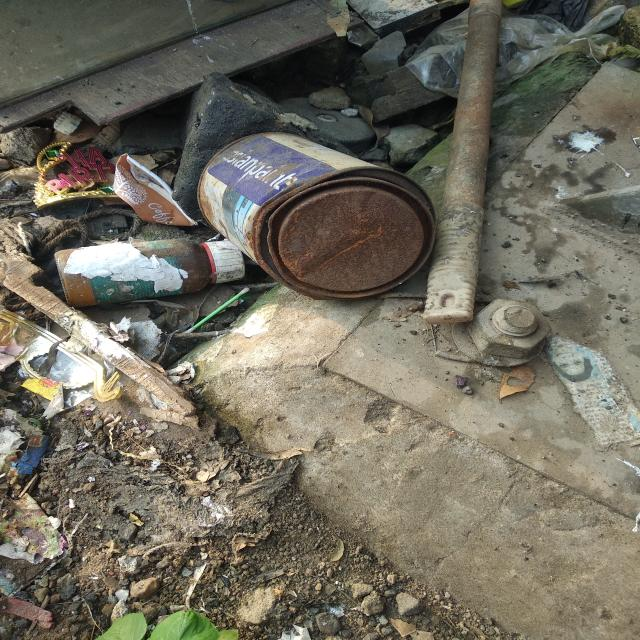garbage: (0, 157, 413, 339), (385, 0, 634, 200), (76, 350, 200, 462), (8, 356, 53, 640), (542, 330, 637, 452)
